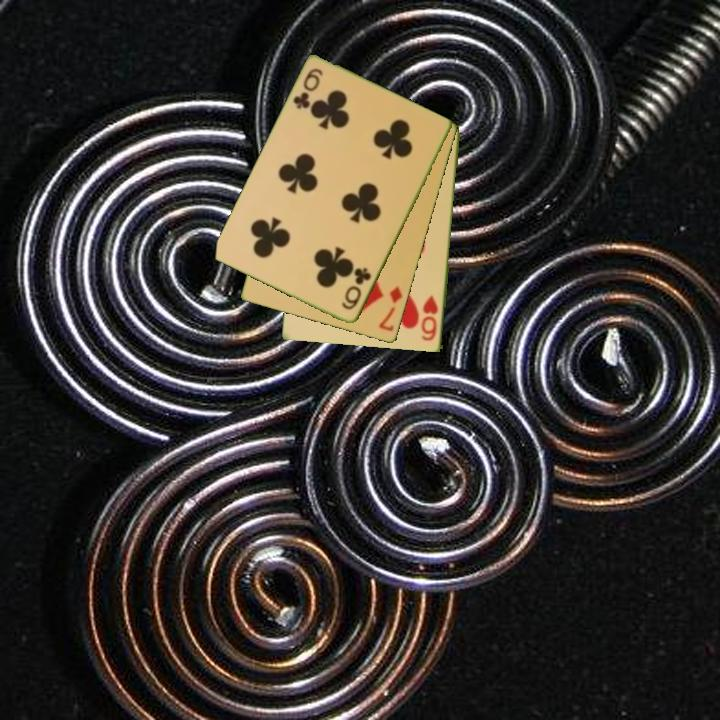6c: (338, 264, 374, 313), (290, 65, 326, 113)
6h: (418, 292, 441, 344)
7d: (376, 283, 406, 335)
